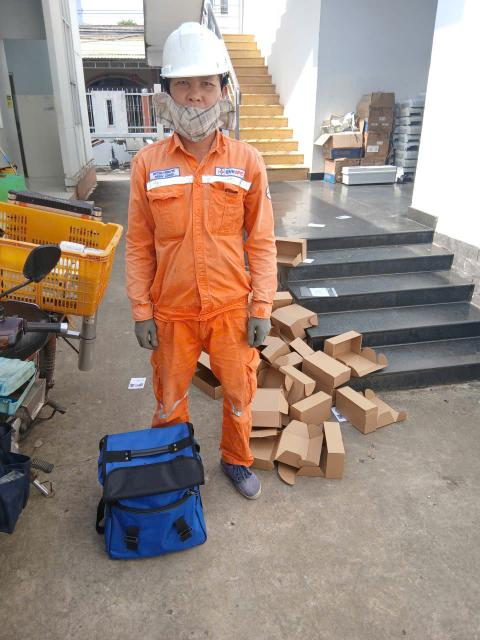gloves: (120, 312, 172, 367), (233, 310, 269, 356)
helmet: (143, 15, 252, 86)
shoes: (223, 455, 272, 508)
